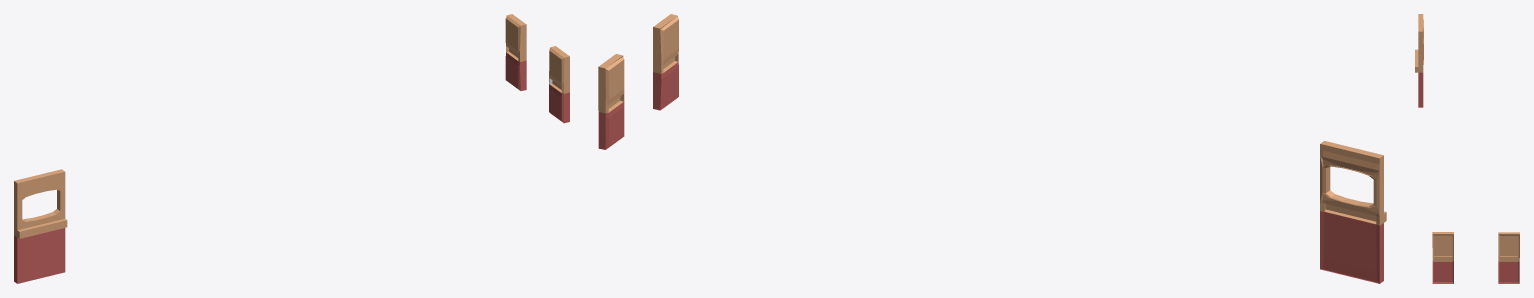
The model's file is DoorsTrain.fbx.
The picture shows the model from 3 angles, left to right: view 1: azimuth 30°, elevation 25°; view 2: azimuth 150°, elevation 25°; view 3: azimuth 270°, elevation 25°; orthographic projection. The views are drawn at different scales.
Parts seen in each view (by area): view 1: dør.001, train.001; view 2: dør.001, train.001; view 3: train.001, dør.001.
Boxes of the visible parts, x1,y1,x2,y2 form: dør.001: (14,169,67,283); train.001: (505,14,569,123); dør.001: (1320,141,1386,283); train.001: (598,14,678,149); train.001: (1432,232,1519,283); dør.001: (1415,14,1423,107).
Size of the model in its own units: 396 by 67.61 by 84.45.
